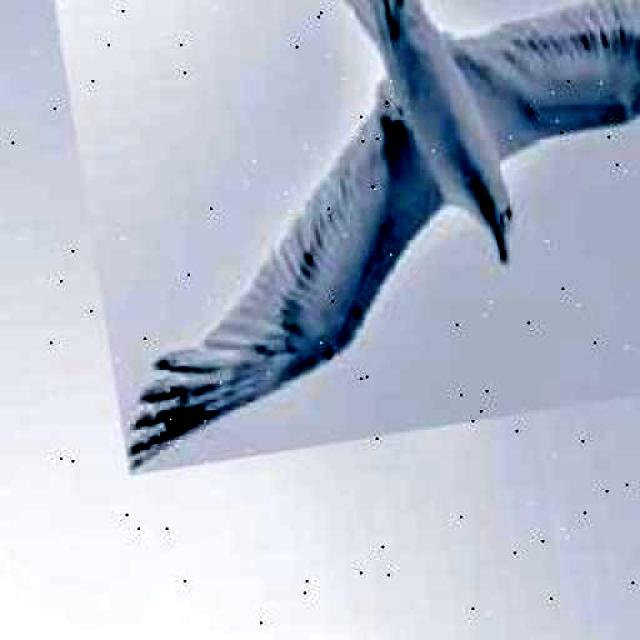airplane: (50, 0, 640, 476)
